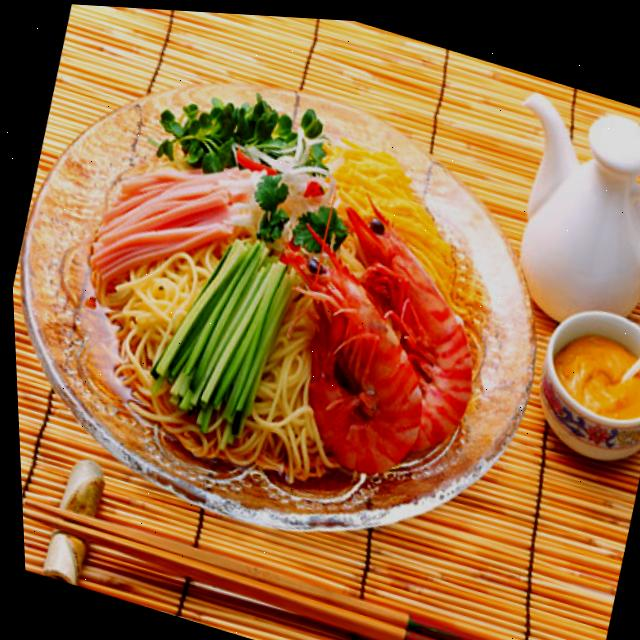面条主食: (0, 7, 597, 602)
